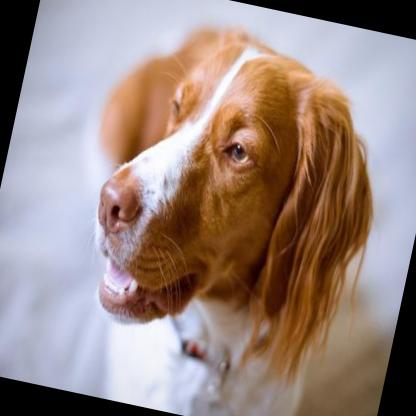Brittany_spaniel: (42, 0, 406, 416)
